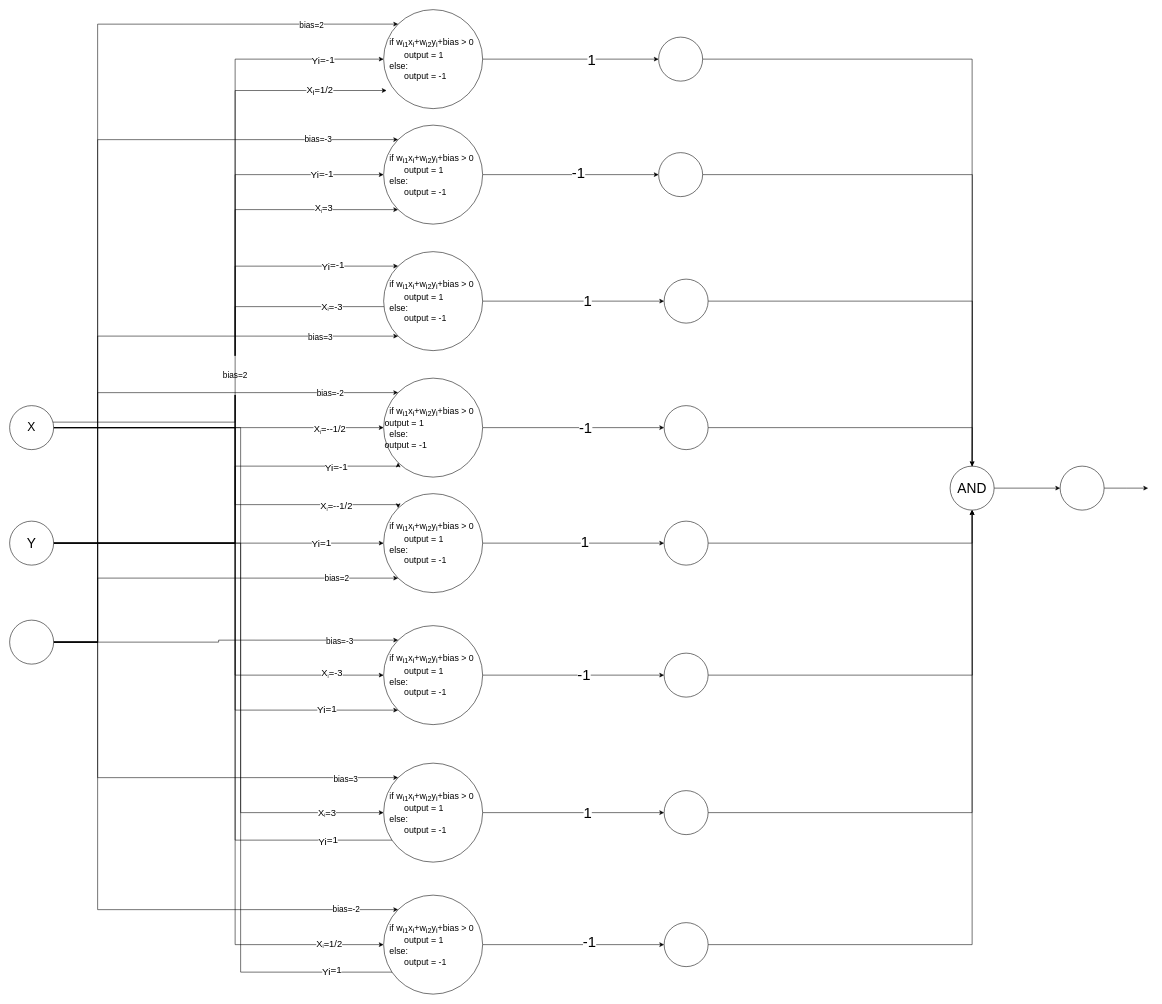
Image size: 1162x1004. Some labels were removed from this diagram. The centre of each missing label's shape, as x and y in pixels:
bias: (x=31, y=642)
OUTPUT: (x=1082, y=488)
